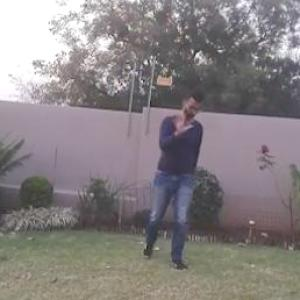follow_hand: (170, 106, 195, 136)
